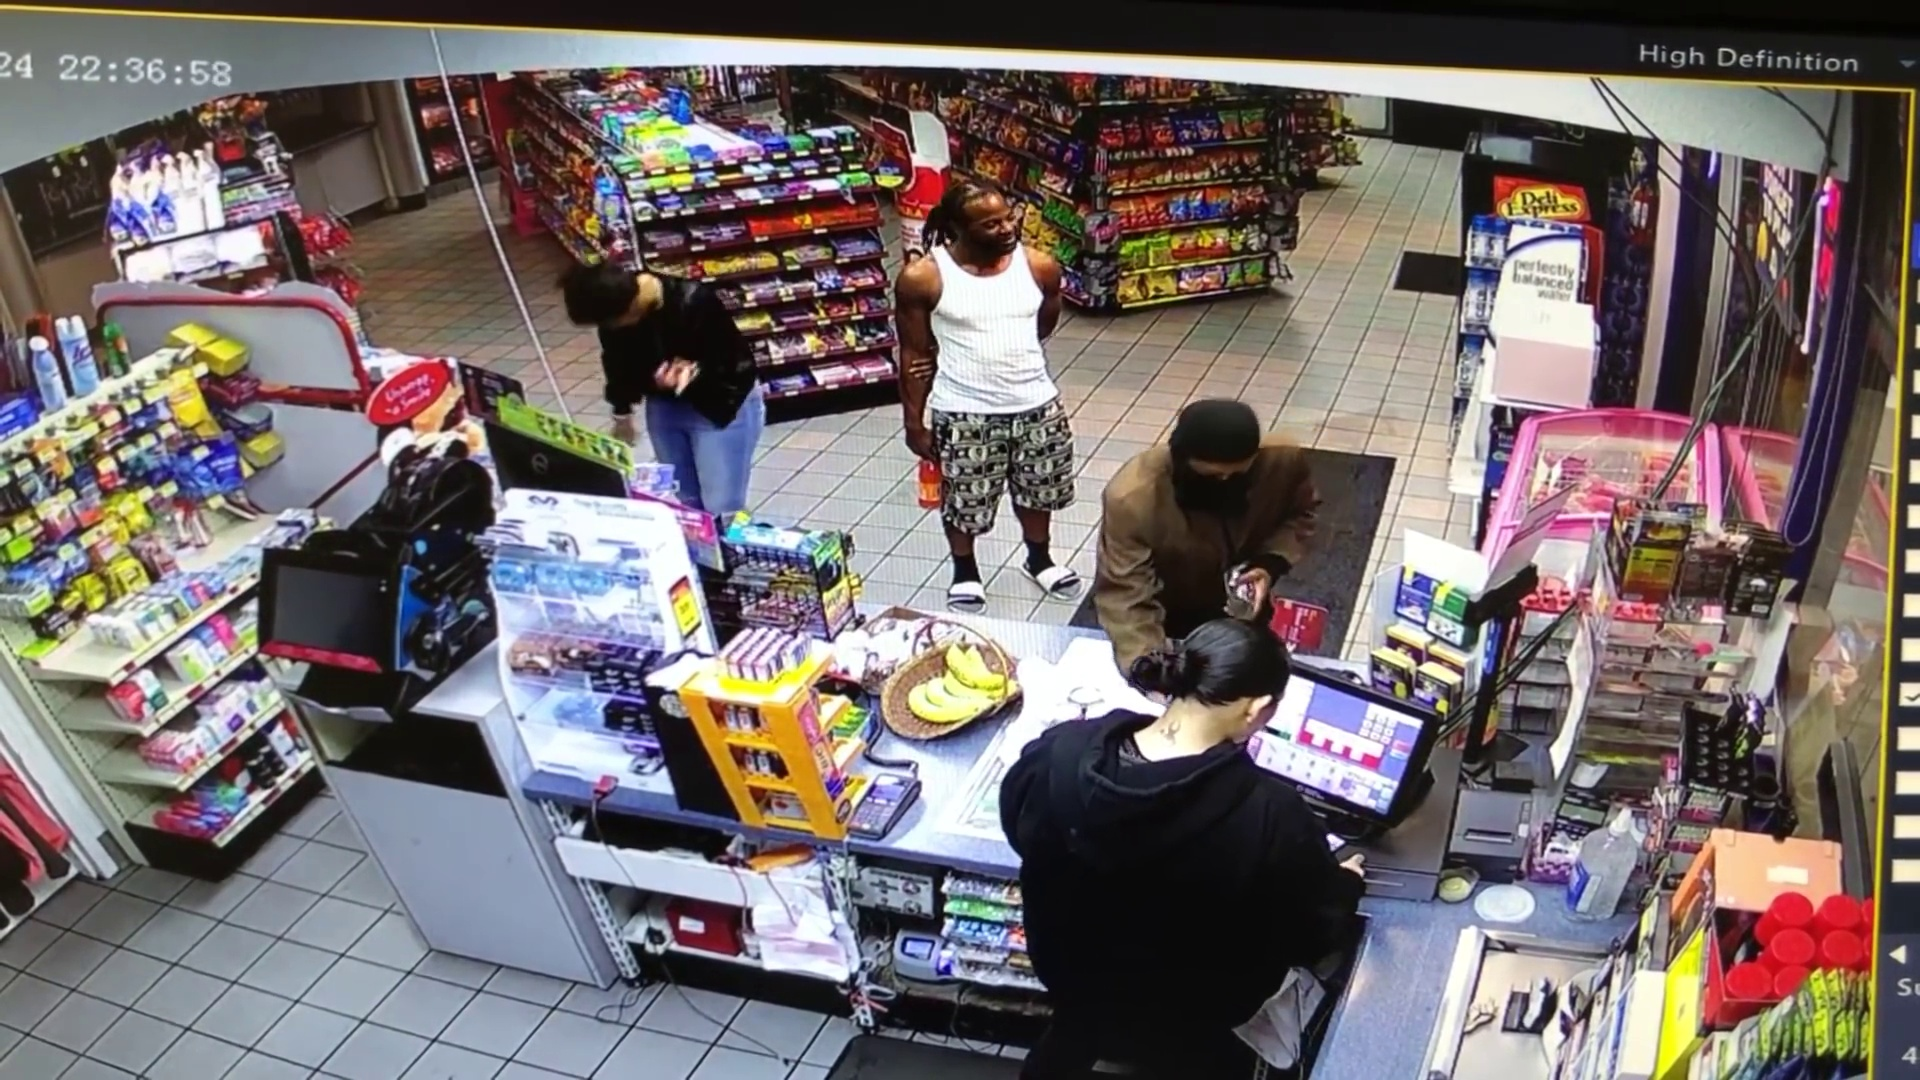face: (1175, 402, 1263, 499), (949, 191, 1018, 260)
